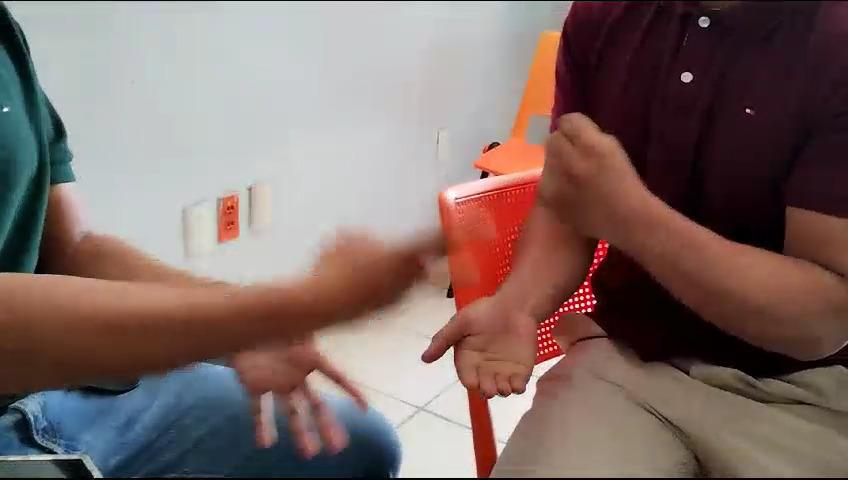Stone: (495, 79, 657, 261)
